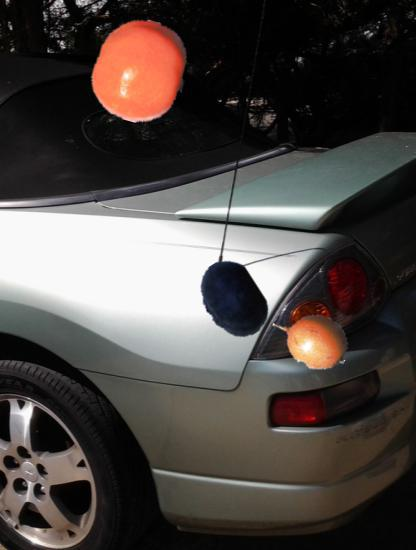Blueberry: (192, 259, 274, 341)
Clementine: (89, 19, 193, 123)
Granadilla: (270, 299, 351, 380)
